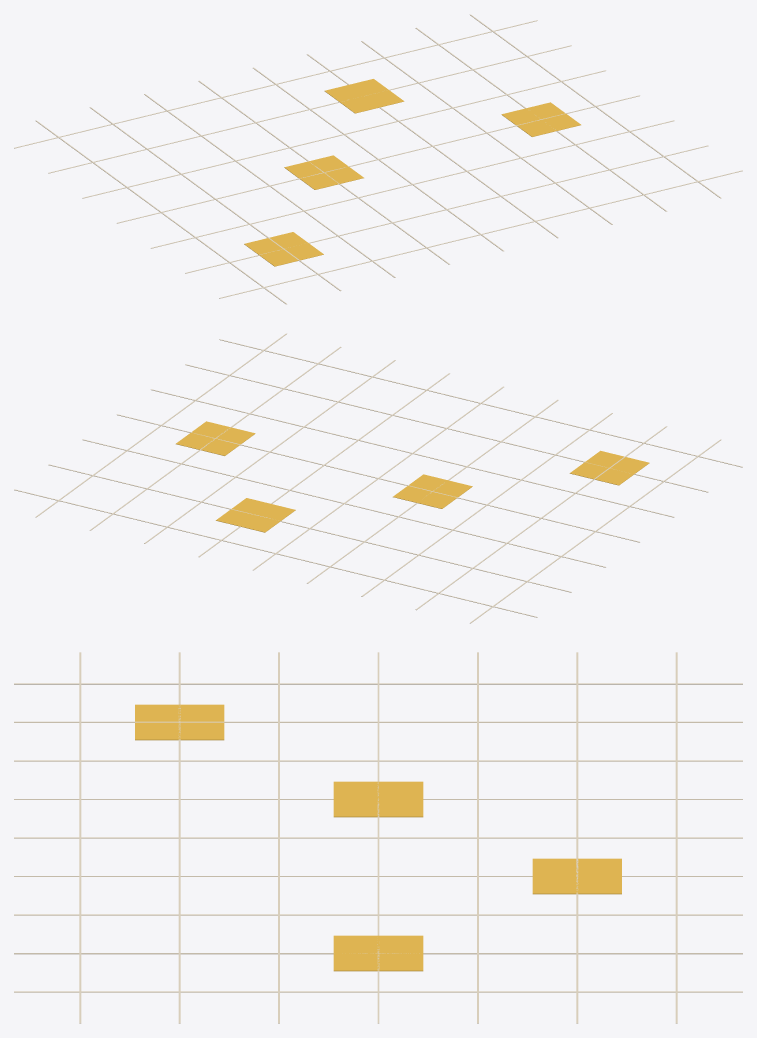
3 views of the same model, one above another, from view 1: azimuth 30°, elevation 25°; view 2: azimuth 150°, elevation 25°; view 3: azimuth 270°, elevation 25° (orthographic). The views are drawn at different scales.
Parts seen in each view (by area): view 1: Geometric color tile.002, Geometric color tile.003, Geometric color tile.001, Geometric color tile, Grout Y.006, Grout Y.004, Grout Y, Grout Y.002, Grout Y.003, Grout Y.001, Grout Y.005, Grout X.008 (+6 smaller); view 2: Geometric color tile.002, Geometric color tile.001, Geometric color tile.003, Geometric color tile, Grout Y.006, Grout Y.004, Grout Y, Grout Y.002, Grout Y.005, Grout Y.003, Grout Y.001, Grout X.008 (+6 smaller); view 3: Geometric color tile.003, Geometric color tile.001, Geometric color tile, Geometric color tile.002, Grout X.004, Grout X.006, Grout X.008, Grout X.002, Grout X.001, Grout X, Grout X.007, Grout Y.006 (+8 smaller).
Part boxes in pixels (x1,y1,x2,y2): Geometric color tile.002: (324, 79, 404, 113); Geometric color tile.003: (501, 102, 580, 136); Geometric color tile.001: (284, 155, 363, 189); Geometric color tile: (244, 232, 323, 266); Grout Y.006: (14, 20, 537, 148); Grout Y.004: (82, 70, 605, 198); Grout Y: (219, 170, 742, 298); Grout Y.002: (151, 120, 674, 248); Grout Y.003: (117, 95, 639, 223); Grout Y.001: (185, 145, 708, 273); Grout Y.005: (48, 45, 571, 173); Grout X.008: (470, 14, 721, 198); Geometric color tile.002: (216, 498, 295, 532); Geometric color tile.001: (393, 474, 472, 508); Geometric color tile.003: (176, 421, 255, 455); Geometric color tile: (569, 450, 649, 485); Grout Y.006: (14, 489, 537, 617); Grout Y.004: (82, 439, 605, 567); Grout Y: (219, 339, 742, 467); Grout Y.002: (151, 389, 674, 517); Grout Y.005: (48, 464, 571, 592); Grout Y.003: (117, 414, 639, 542); Grout Y.001: (185, 364, 708, 492); Grout X.008: (35, 333, 286, 517); Geometric color tile.003: (333, 935, 423, 971); Geometric color tile.001: (333, 781, 423, 817); Geometric color tile: (135, 704, 224, 740); Geometric color tile.002: (532, 858, 621, 894); Grout X.004: (14, 837, 742, 838); Grout X.006: (14, 914, 742, 915); Grout X.008: (14, 991, 742, 992); Grout X.002: (14, 760, 742, 761); Grout X.001: (14, 721, 742, 722); Grout X: (14, 683, 742, 684); Grout X.007: (14, 953, 742, 954); Grout Y.006: (675, 652, 677, 1023).
Bounding box in the file's own units: 530 × 0.3001 × 440.
